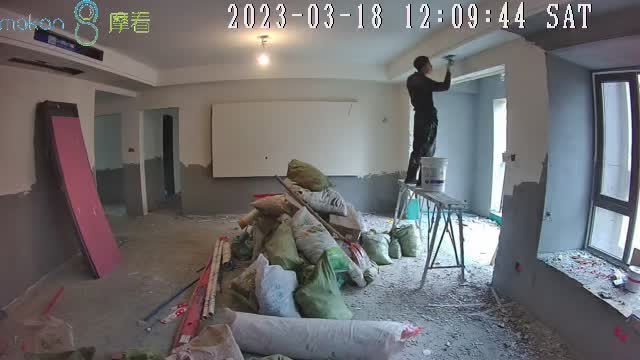people: (406, 56, 454, 187)
window: (584, 73, 640, 266)
